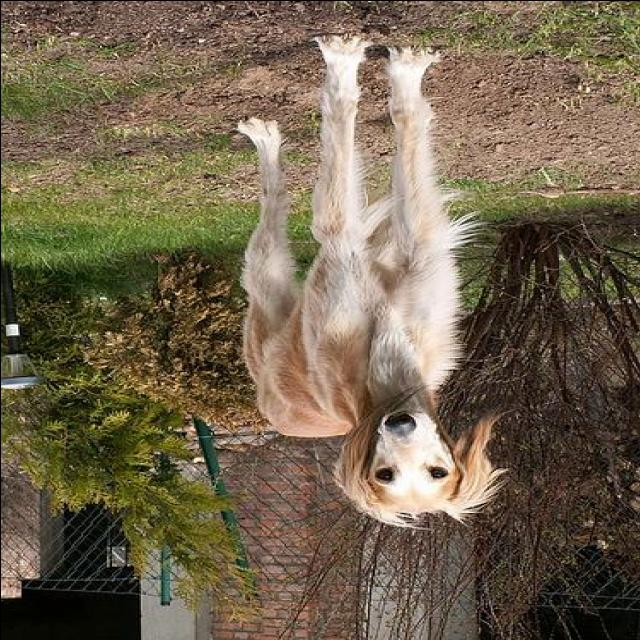saluki: (239, 30, 507, 528)
